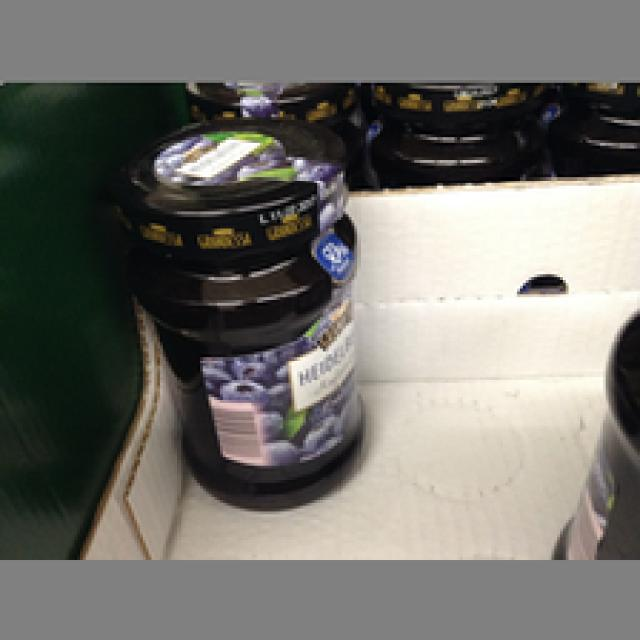groceries: (114, 114, 369, 506)
